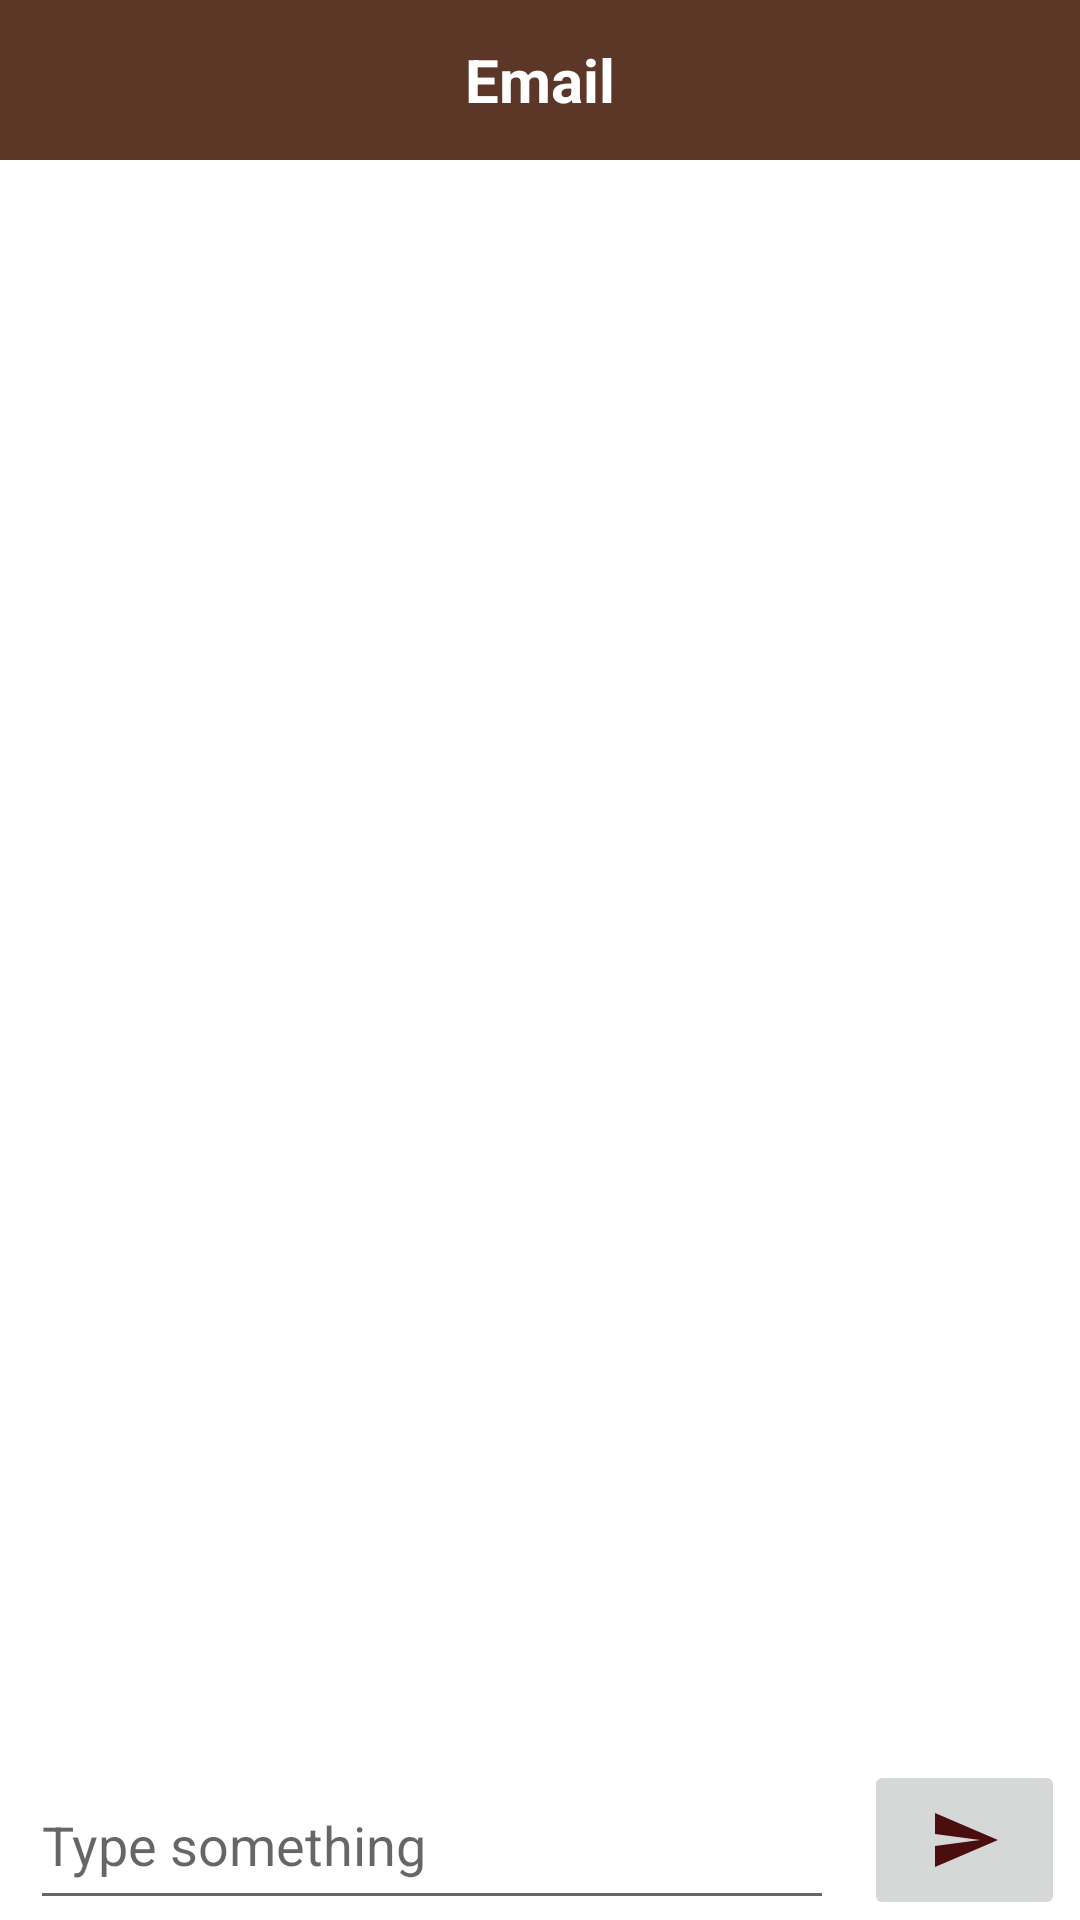

Locate icon controls on the screen. Image size 1080w x 1920h, boxes as (x1, y1, x2, y2).
send: (876, 1778, 1053, 1902)
